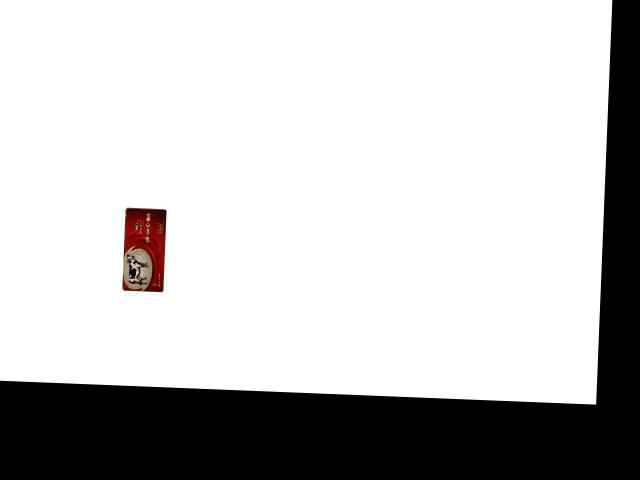chocolate: (122, 205, 168, 292)
